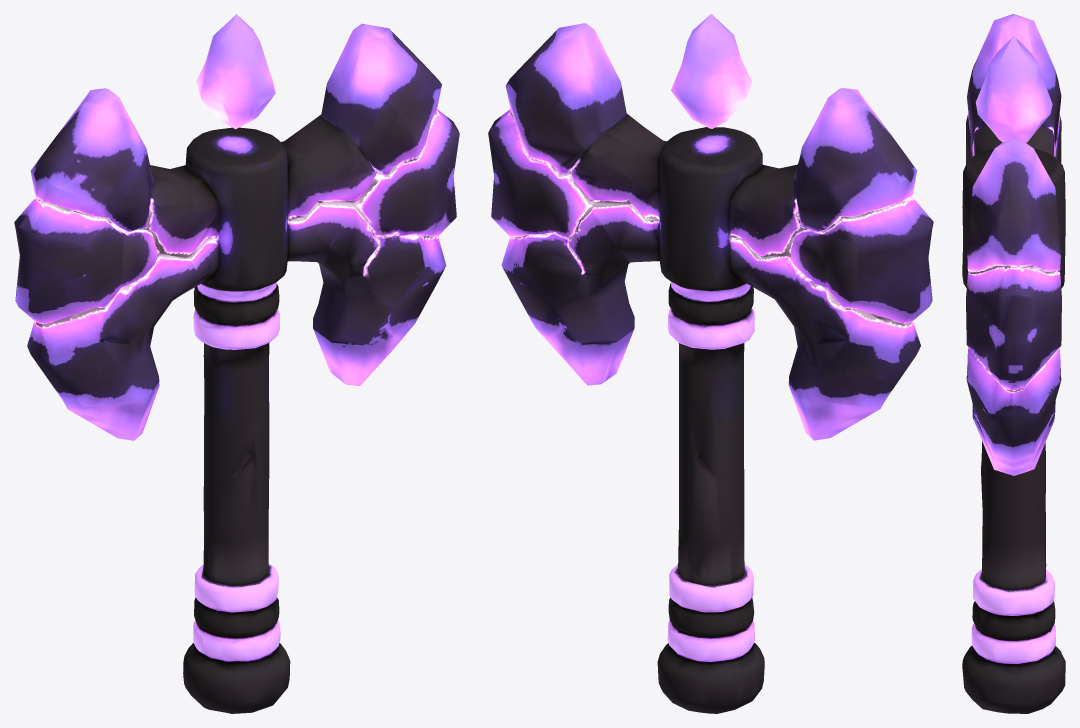
The model's file is UqVoidLord_Axe-CWN7enLo.glb.
3 renders of one model, left to right at view 1: azimuth 30°, elevation 25°; view 2: azimuth 150°, elevation 25°; view 3: azimuth 270°, elevation 25°, orthographic. The views are drawn at different scales.
Visible parts, largest first — view 1: tripo_node_945cc098-f1e2-42e5-a694-ec811bc3c843; view 2: tripo_node_945cc098-f1e2-42e5-a694-ec811bc3c843; view 3: tripo_node_945cc098-f1e2-42e5-a694-ec811bc3c843.
Part boxes in pixels (x1=…): tripo_node_945cc098-f1e2-42e5-a694-ec811bc3c843: x1=14, y1=14, x2=459, y2=713; tripo_node_945cc098-f1e2-42e5-a694-ec811bc3c843: x1=488, y1=14, x2=933, y2=713; tripo_node_945cc098-f1e2-42e5-a694-ec811bc3c843: x1=962, y1=14, x2=1065, y2=713.
Size of the model in its own units: 1.99 by 3 by 0.422.
1 material, 1 textured.
